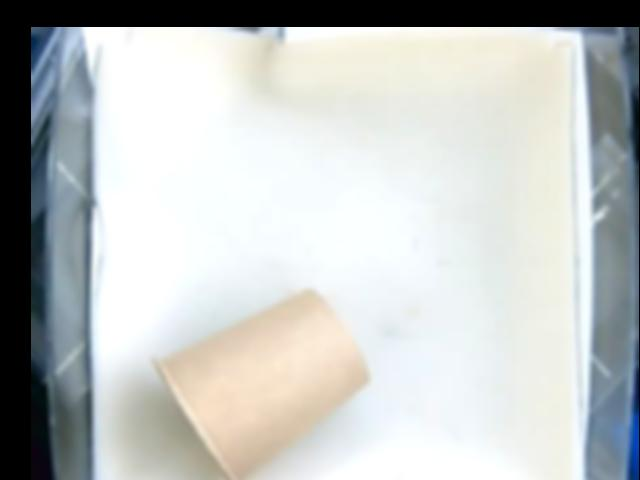Cup: (154, 289, 372, 480)
